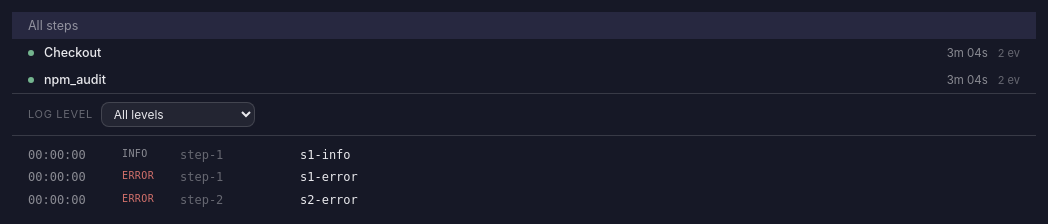
it: RunDetailLogSection — terminal run (LogViewer) › a level-filter control composes with an active step filter (AC3)
Click the button "Checkout 3m 04s 2 ev": coordinates (73, 52) x1=12 y1=39 x2=1036 y2=66
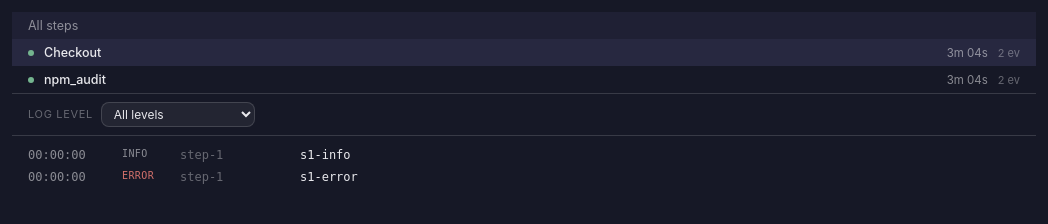
Select "Errors only" in the dropdown labelled "Log level": coordinates (178, 114) x1=101 y1=102 x2=255 y2=127
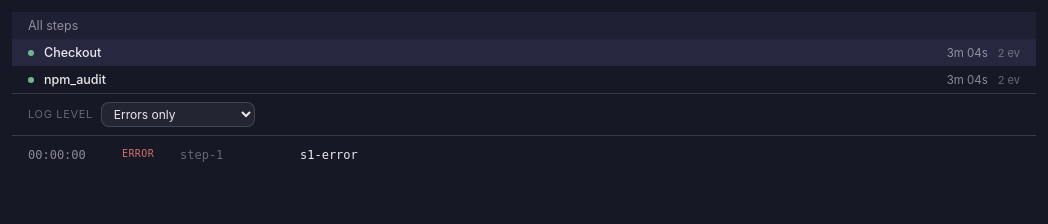
Check: the text "s1-error" is shown, box x1=300 y1=148 x2=358 y2=162
Check: the text "s1-info" is gone
